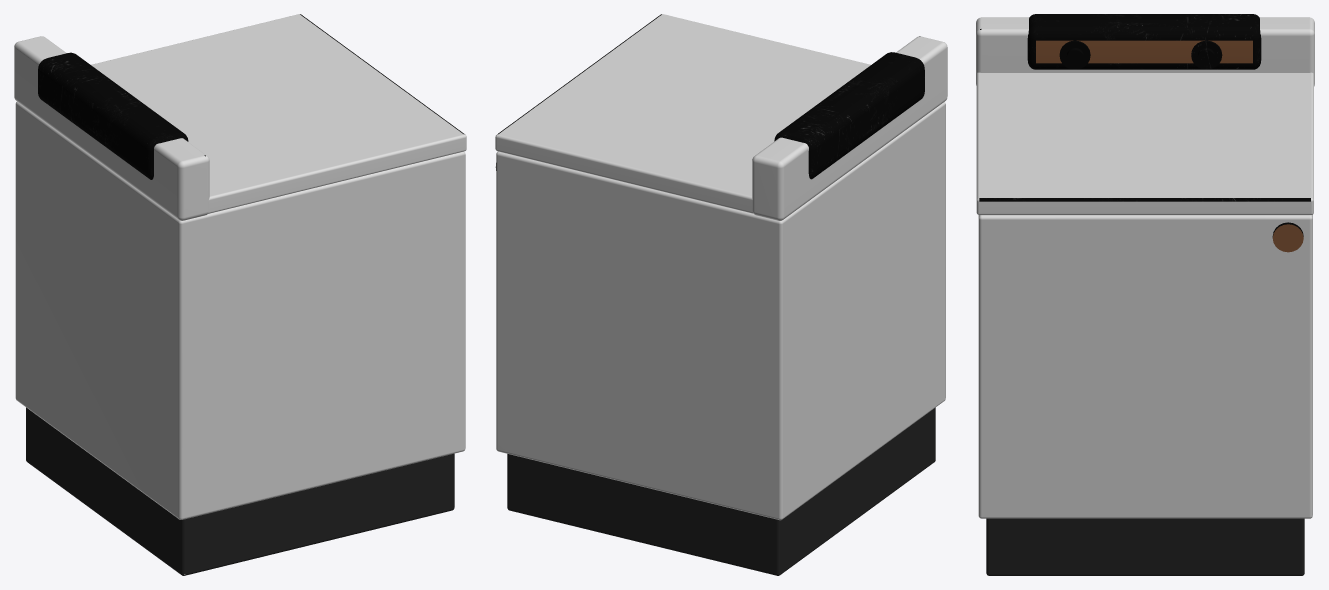
File: WashingMachine.glb
3 renders of one model, left to right at view 1: azimuth 30°, elevation 25°; view 2: azimuth 150°, elevation 25°; view 3: azimuth 270°, elevation 25°, orthographic.
Visible parts, largest first — view 1: refrigerator; view 2: refrigerator; view 3: refrigerator.
Boxes of the visible parts, <box> form: refrigerator: <box>14,14,466,575</box>; refrigerator: <box>495,14,947,575</box>; refrigerator: <box>976,14,1314,575</box>.
Size of the model in its own units: 0.8432 by 1.15 by 0.8288.
Materials: 4 (1 with a texture image).
